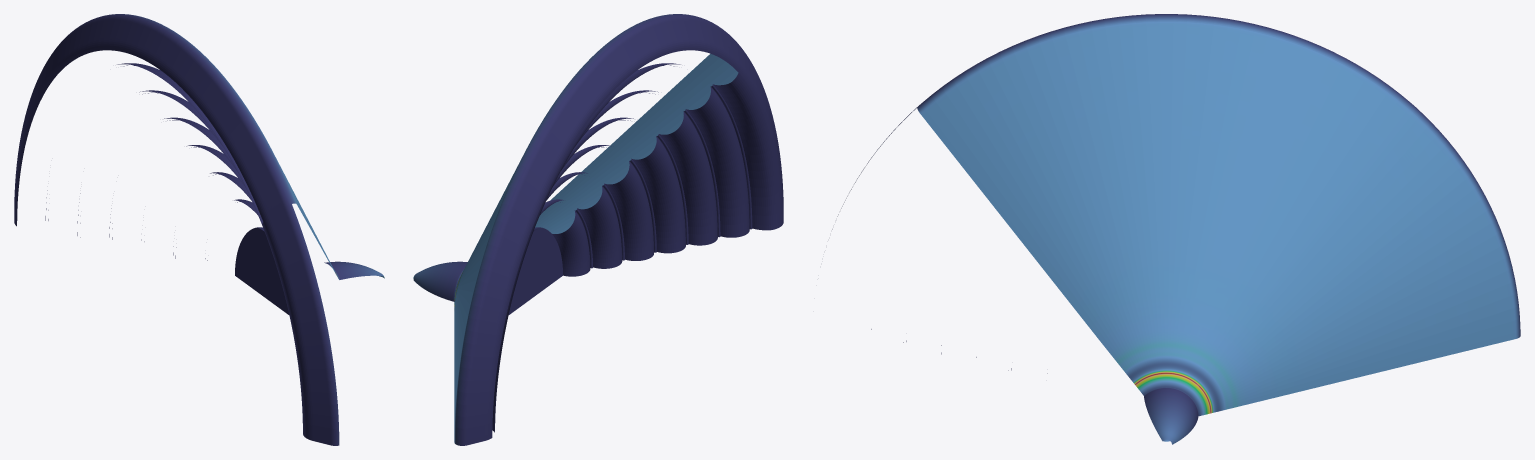
The model's file is marsentrysystem.glb.
3 views of the same model, side by side, from view 1: azimuth 30°, elevation 25°; view 2: azimuth 150°, elevation 25°; view 3: azimuth 270°, elevation 25° (orthographic). The views are drawn at different scales.
Visible parts, largest first — view 1: part_0_0; view 2: part_0_0; view 3: part_0_0.
Part boxes in pixels (bbox=[...]): part_0_0: bbox=[14, 14, 384, 445]; part_0_0: bbox=[413, 14, 783, 445]; part_0_0: bbox=[832, 14, 1520, 444].
Bounding box in the file's own units: 0.8801 × 1.1 × 2.2.
